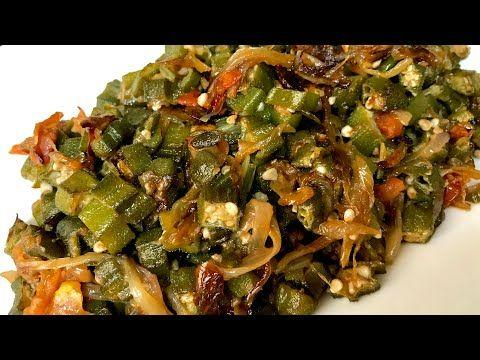bhindi: (68, 44, 446, 303)
